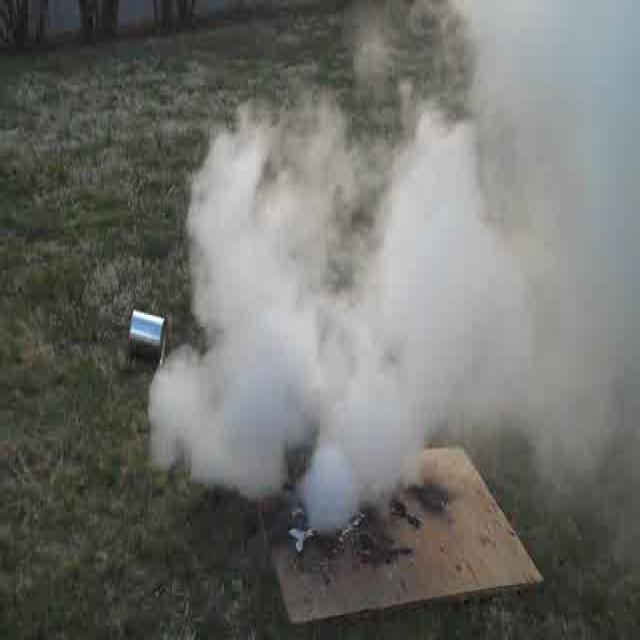Smoke: (155, 19, 638, 468)
